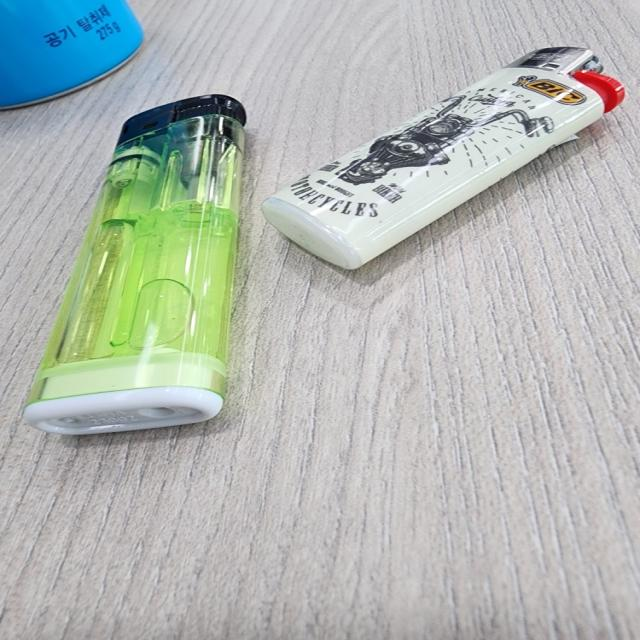lighter: (259, 44, 628, 268), (25, 91, 251, 444)
